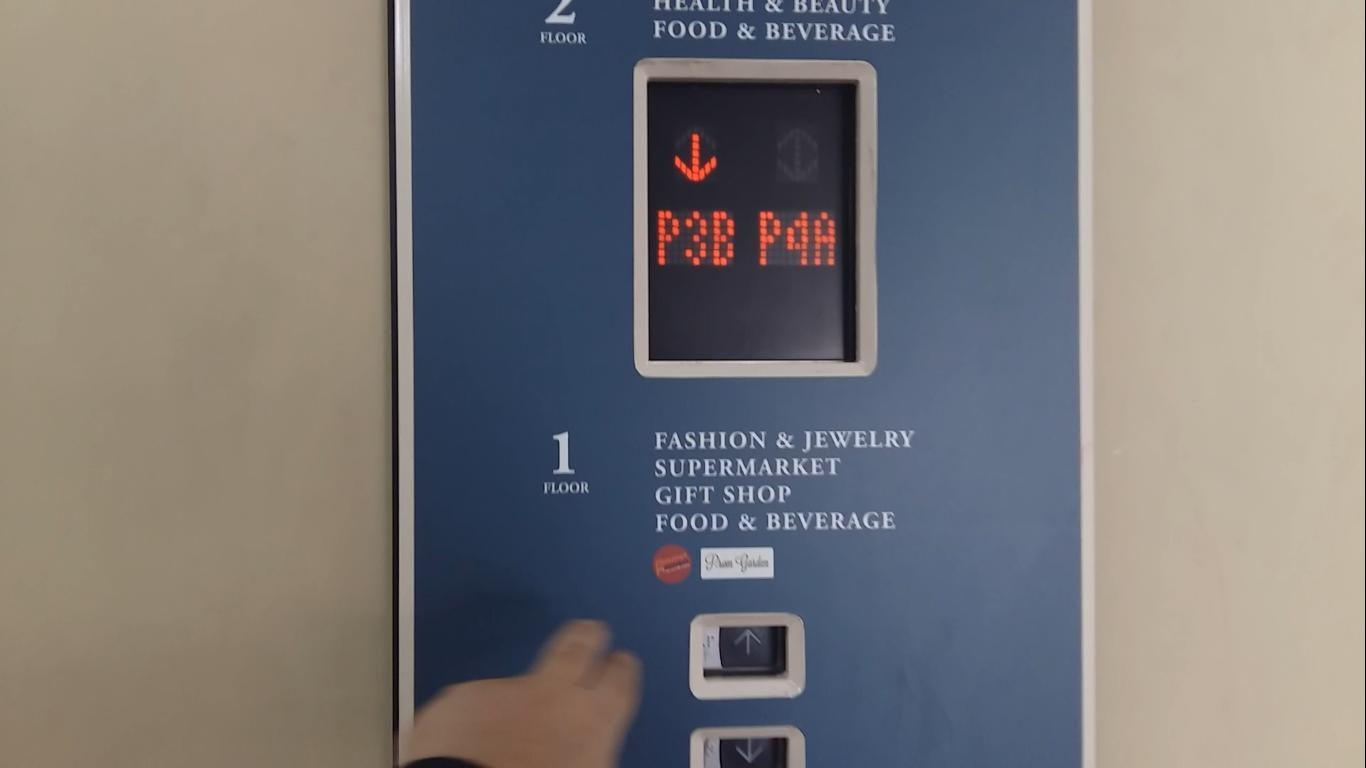down: (682, 723, 816, 768)
led: (622, 47, 883, 383)
up: (681, 604, 810, 706)
